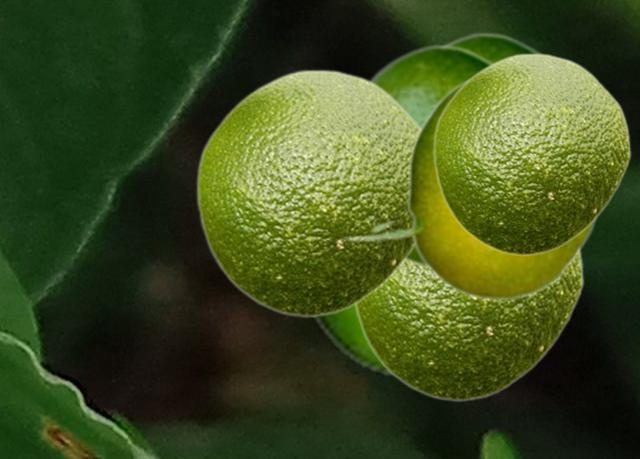calamansi: (341, 73, 601, 300), (195, 68, 419, 318), (432, 52, 630, 256), (308, 255, 586, 381), (354, 251, 583, 402), (369, 43, 493, 270), (441, 31, 542, 60)
